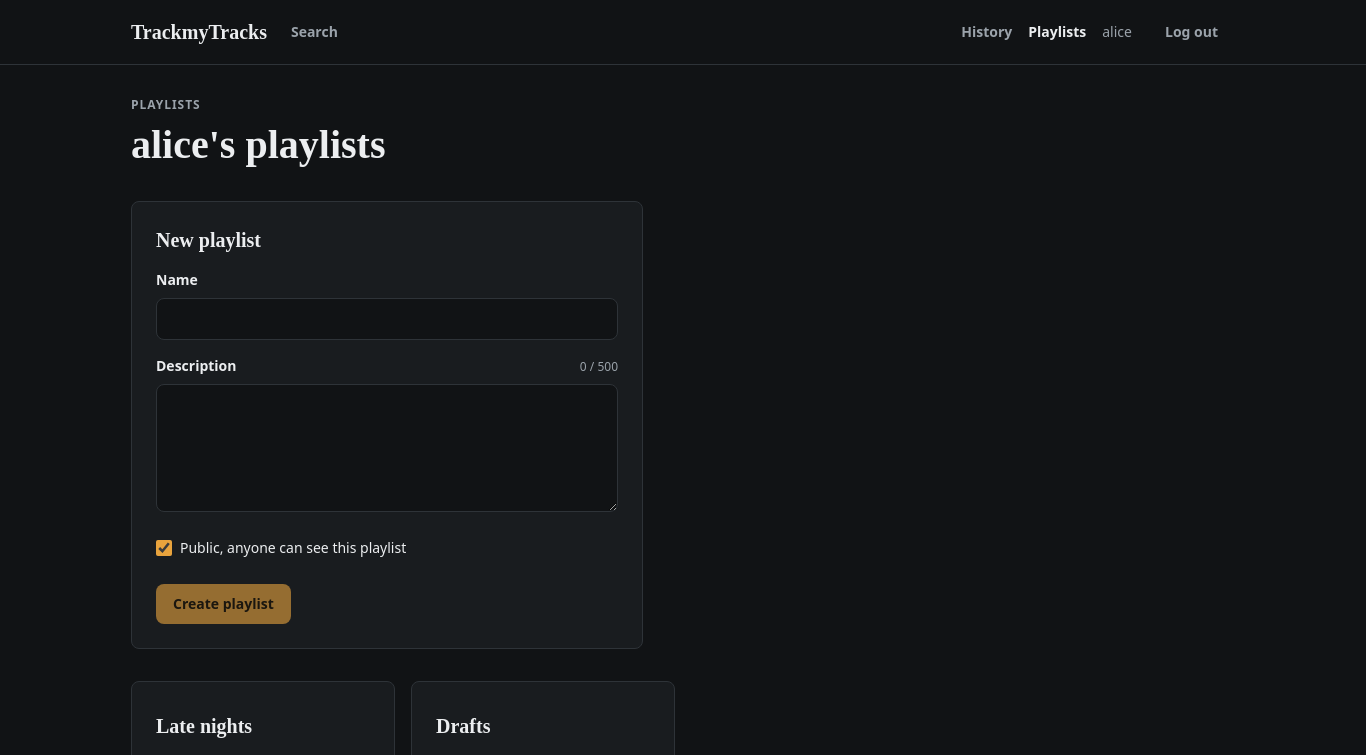
Test: user playlists page › shows the owner's playlists and creates a new one
Expected: the link "Late nights" is shown, [156,715,252,737]
Type "Road trip" into the field labelled "Name". click: (387, 319)
box: [156,298,618,340]
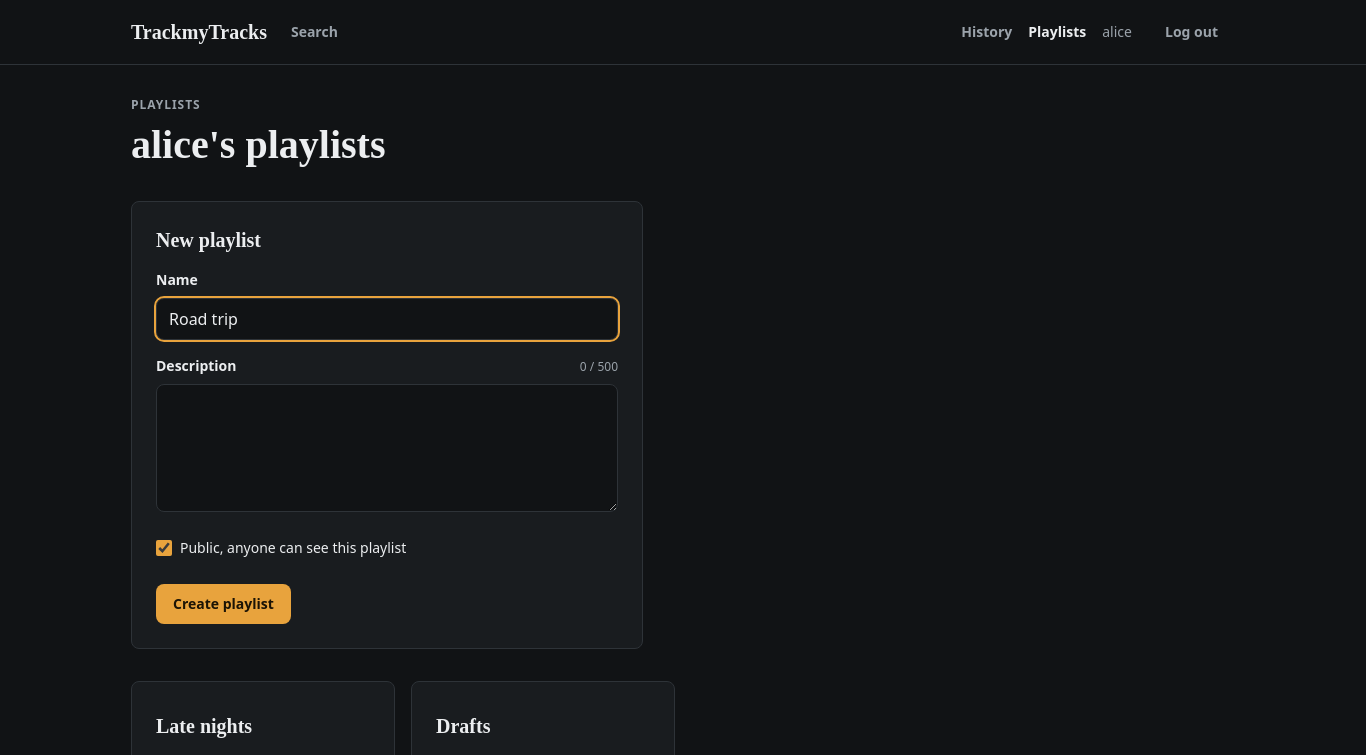
Click the button "Create playlist". click: (223, 604)
box: [156,584,291,624]
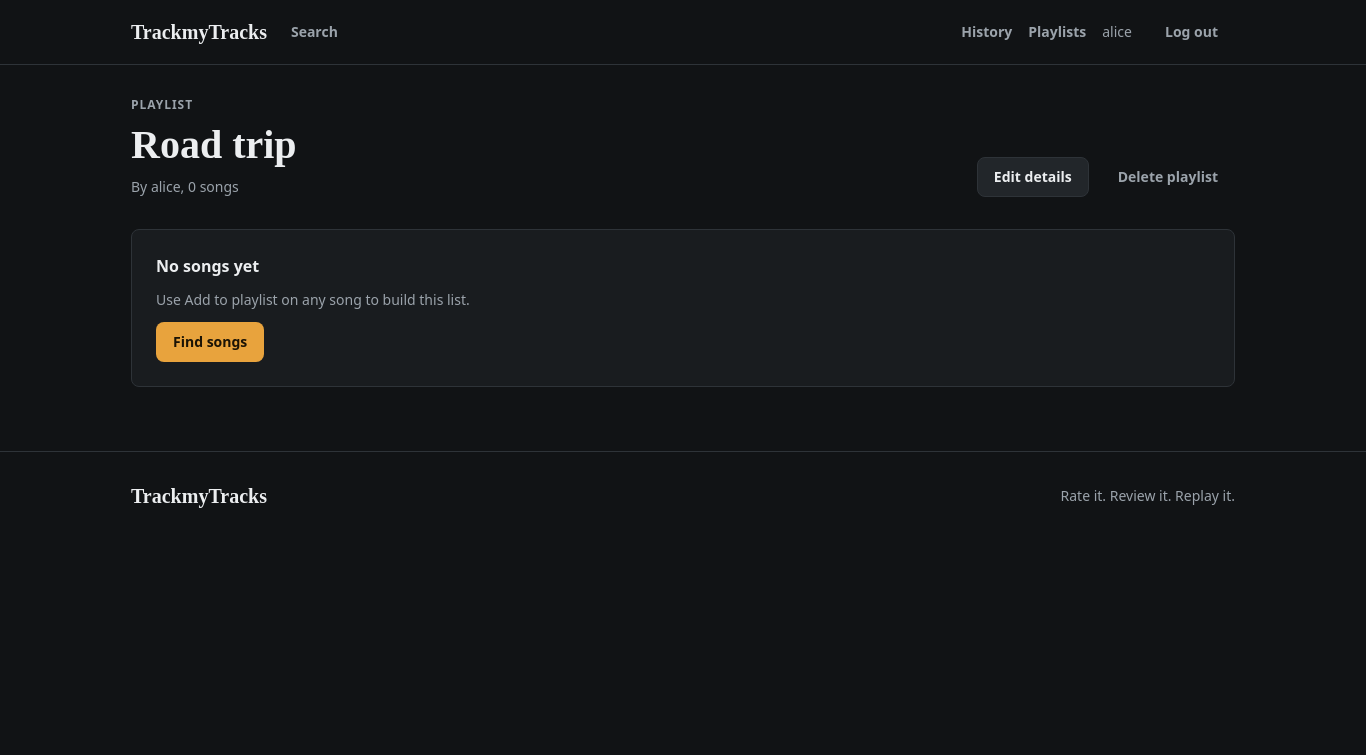
Now the heading "Road trip" is shown, box [131,121,297,169]
